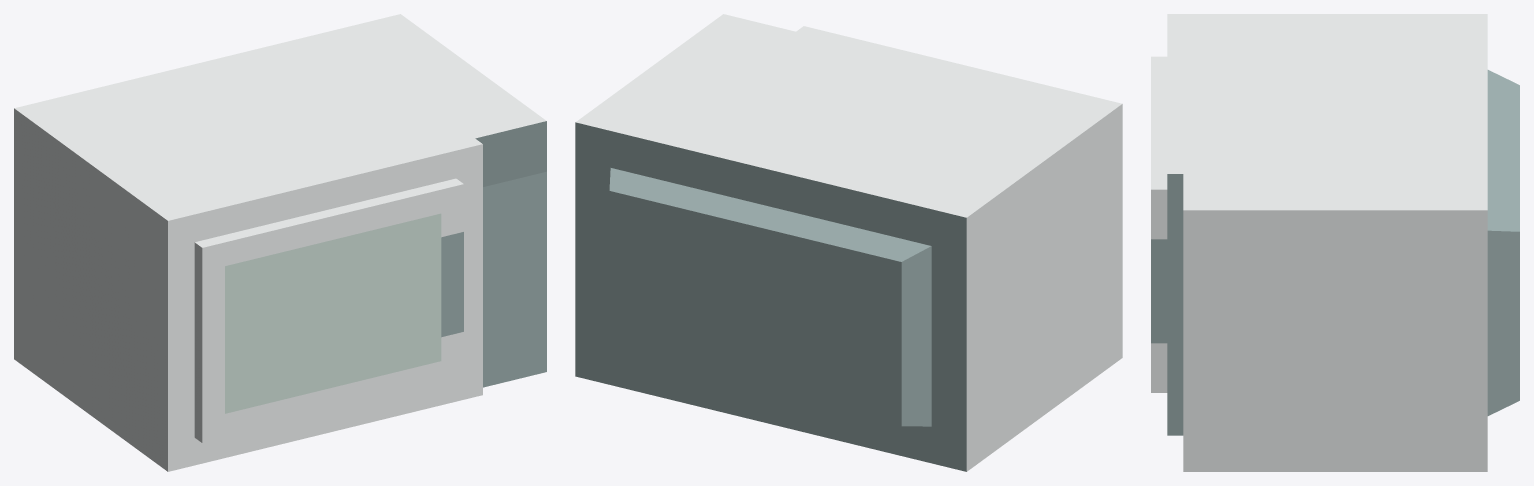
File: kitchenMicrowave.glb
The picture shows the model from 3 angles, left to right: view 1: azimuth 30°, elevation 25°; view 2: azimuth 150°, elevation 25°; view 3: azimuth 270°, elevation 25°; orthographic projection. The views are drawn at different scales.
Visible parts, largest first — view 1: kitchenMicrowave(Clone), Group; view 2: kitchenMicrowave(Clone); view 3: kitchenMicrowave(Clone), Group.
Boxes of the visible parts, x1,y1,x2,y2 form: kitchenMicrowave(Clone): [14, 14, 546, 471]; Group: [194, 178, 463, 442]; kitchenMicrowave(Clone): [575, 14, 1122, 471]; kitchenMicrowave(Clone): [1167, 14, 1519, 471]; Group: [1151, 56, 1167, 392].
Bounding box in the file's own units: 0.5887 × 0.3654 × 0.4669.
4 materials, 4 textured.
